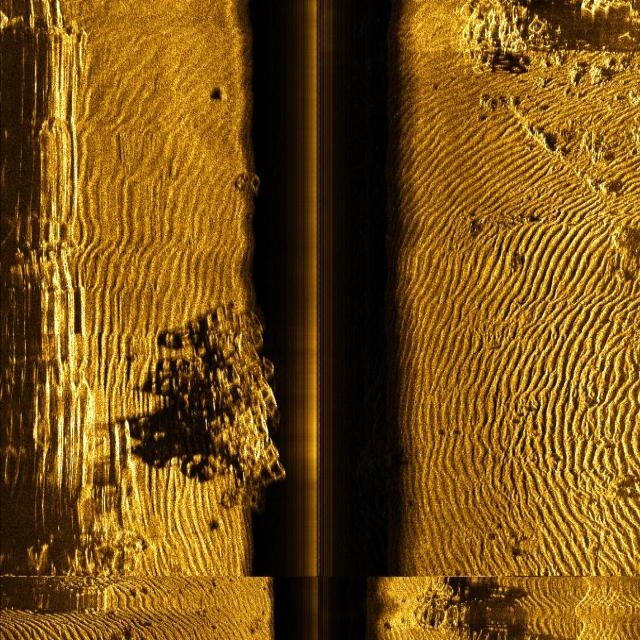artificial reef: (167, 291, 291, 561), (234, 169, 270, 216)
